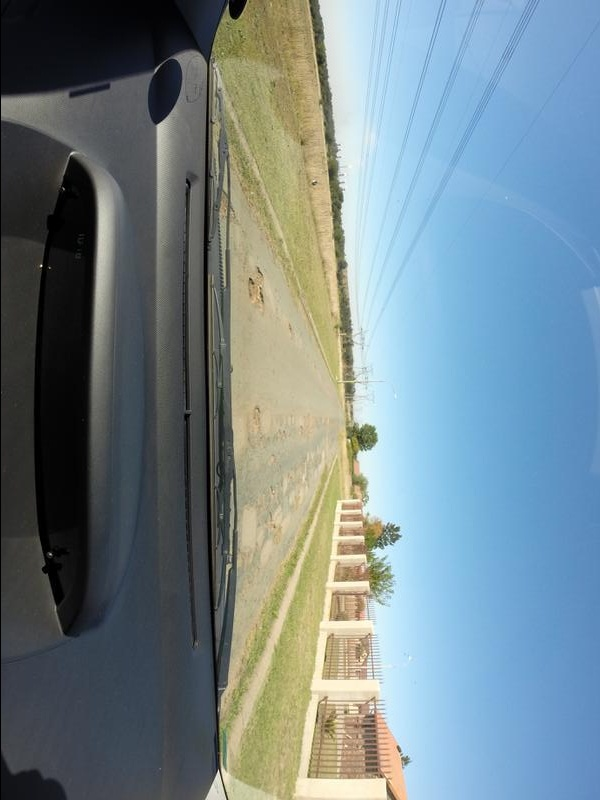pothole: (238, 261, 273, 316), (247, 401, 266, 457), (263, 516, 291, 545), (287, 322, 301, 340), (264, 484, 280, 499), (268, 431, 287, 442), (297, 424, 305, 443), (290, 499, 303, 509)
